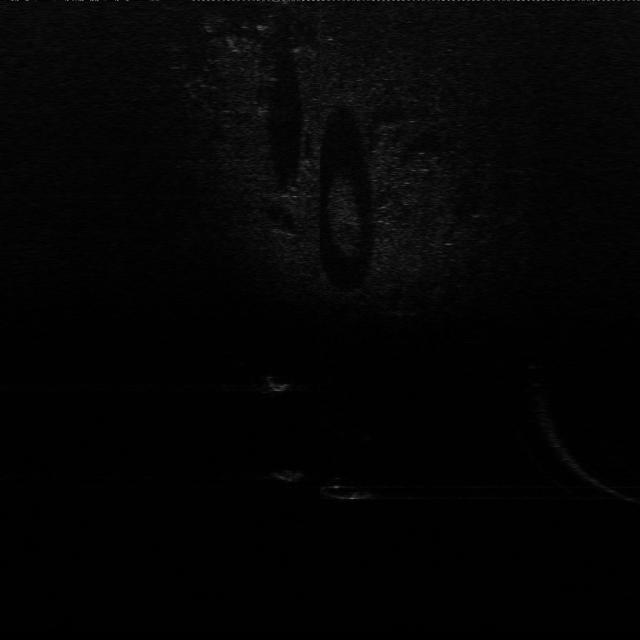cube: (263, 460, 307, 486)
square cage: (260, 370, 296, 396)
tyre: (320, 470, 380, 504)
